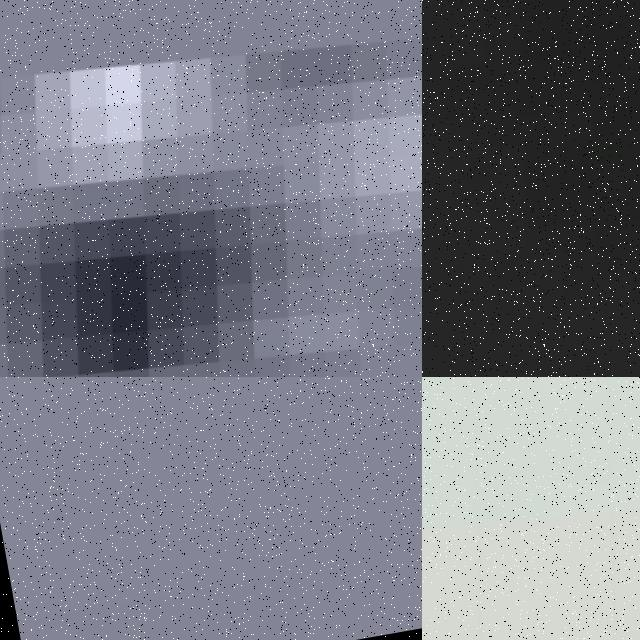0: (0, 0, 422, 377)
drone: (422, 0, 640, 377), (422, 377, 640, 640)
